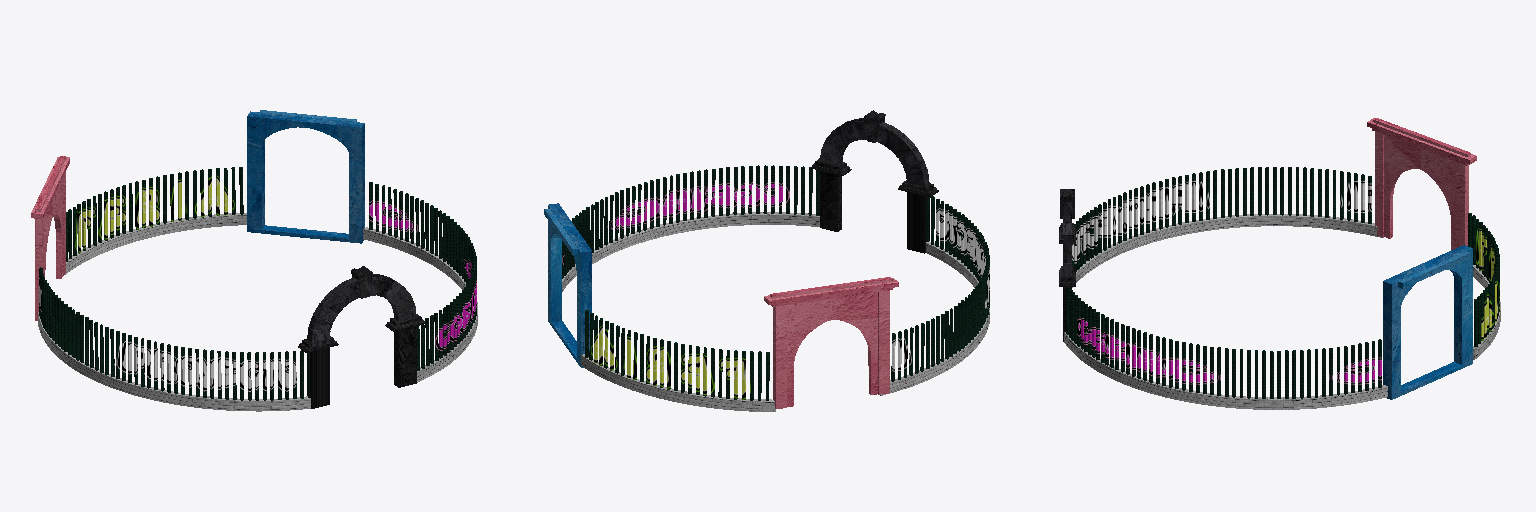
3 views of the same model, side by side, from view 1: azimuth 30°, elevation 25°; view 2: azimuth 150°, elevation 25°; view 3: azimuth 270°, elevation 25° (orthographic).
Visible parts, largest first — view 1: Line112; view 2: Line112; view 3: Line112.
Part boxes in pixels (left/top/right/bottom): Line112: left=31, top=110, right=477, bottom=411; Line112: left=544, top=110, right=989, bottom=411; Line112: left=1059, top=118, right=1500, bottom=409.
Size of the model in its own units: 106 by 34.1 by 107.
2 materials, 2 textured.